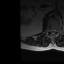CCS_normal: (52, 27, 53, 36)
LFS_normal: (55, 28, 57, 33)
LLS_normal: (54, 27, 55, 34)
RFS_stenosis: (49, 28, 50, 34)
RLS_normal: (50, 28, 52, 34)
